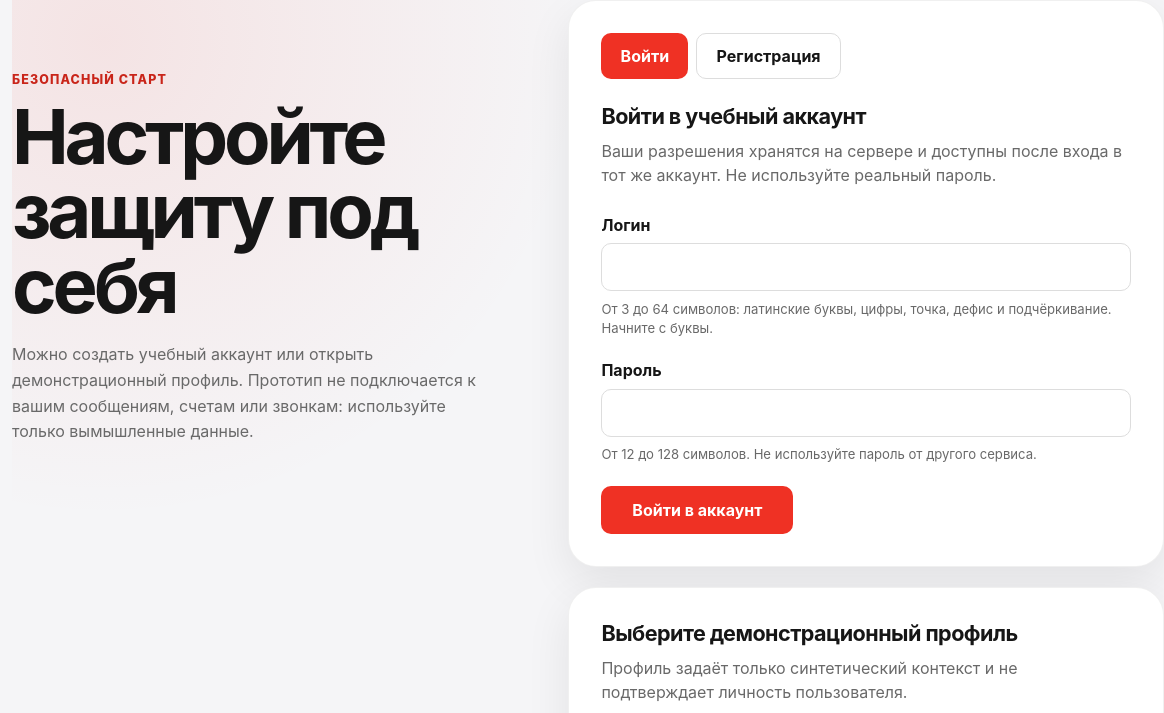
Test case: onboarding › keeps registration fields after a server error and sends only credentials
Click the button "Регистрация". click: {"x": 769, "y": 56}
box: [696,33,841,79]
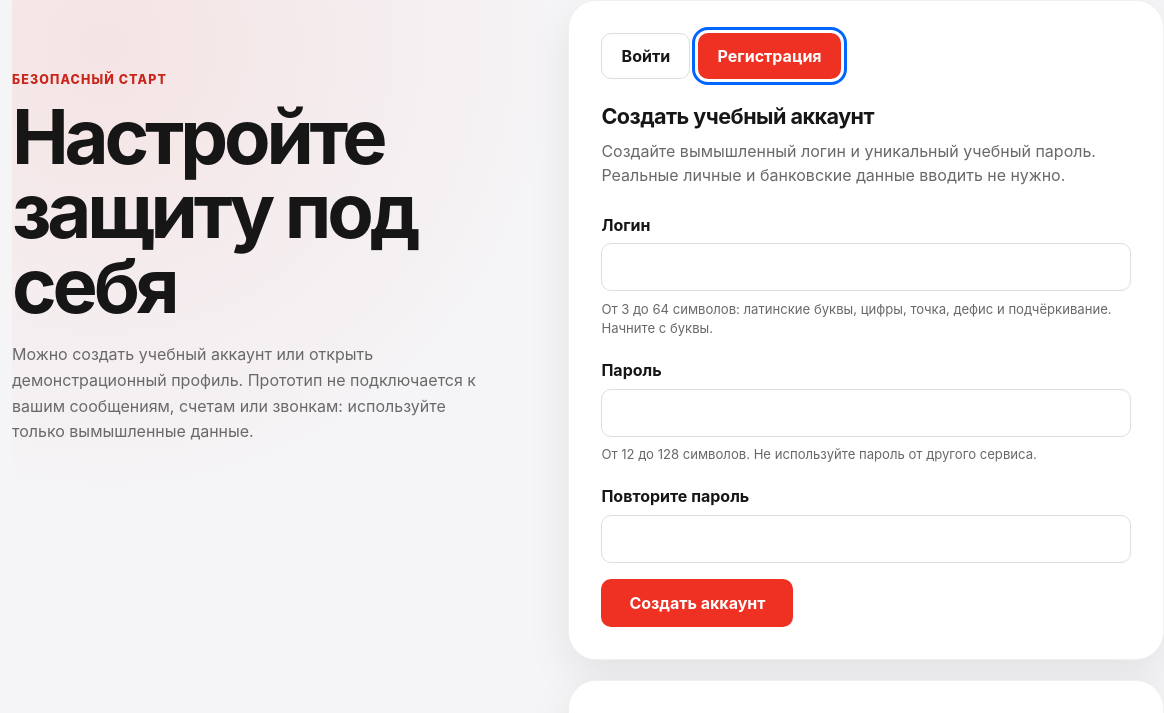
Type "student_one" into the field labelled "Логин". click: {"x": 866, "y": 267}
box: [601,243,1131,291]
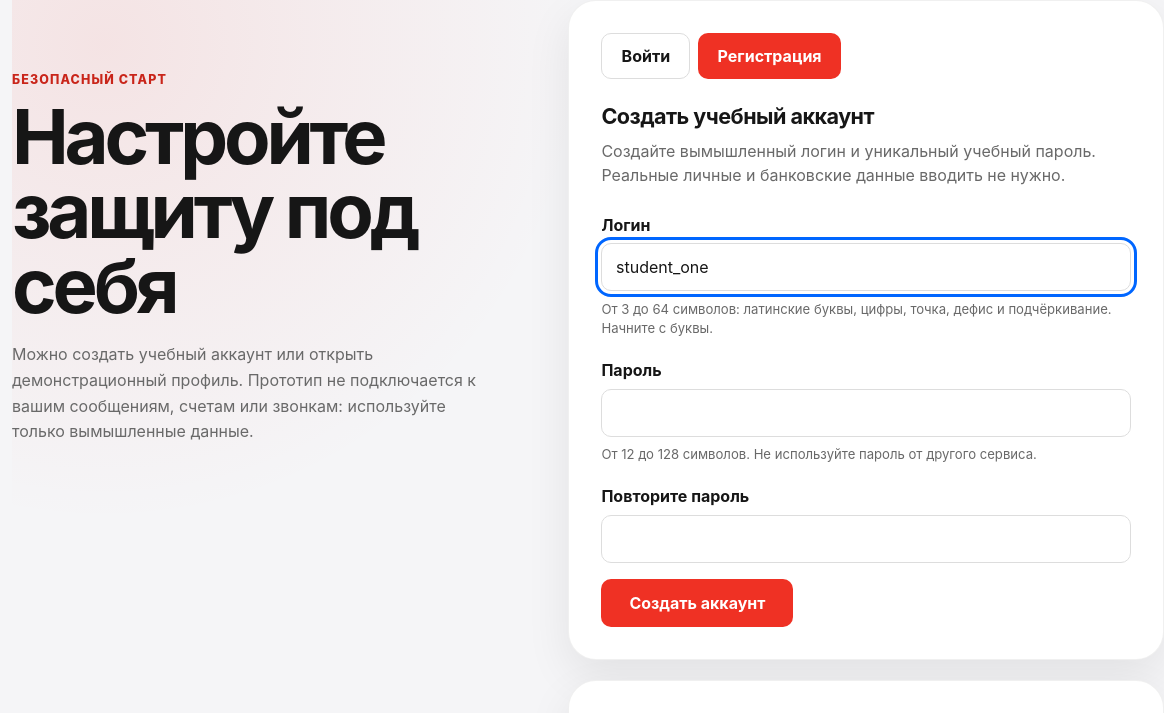
Type "safe-test-pass-123" into the password field labelled "Пароль". click: {"x": 866, "y": 413}
box: [601,389,1131,437]
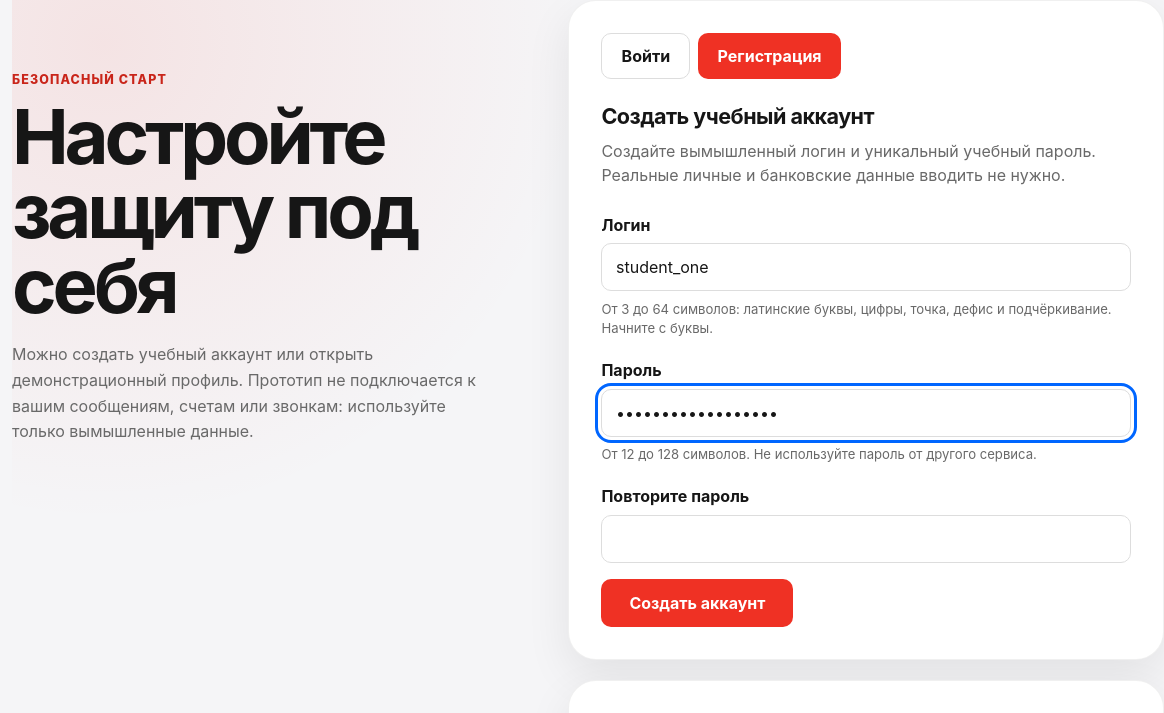
Type "safe-test-pass-123" into the password field labelled "Повторите пароль". click: {"x": 866, "y": 539}
box: [601,515,1131,563]
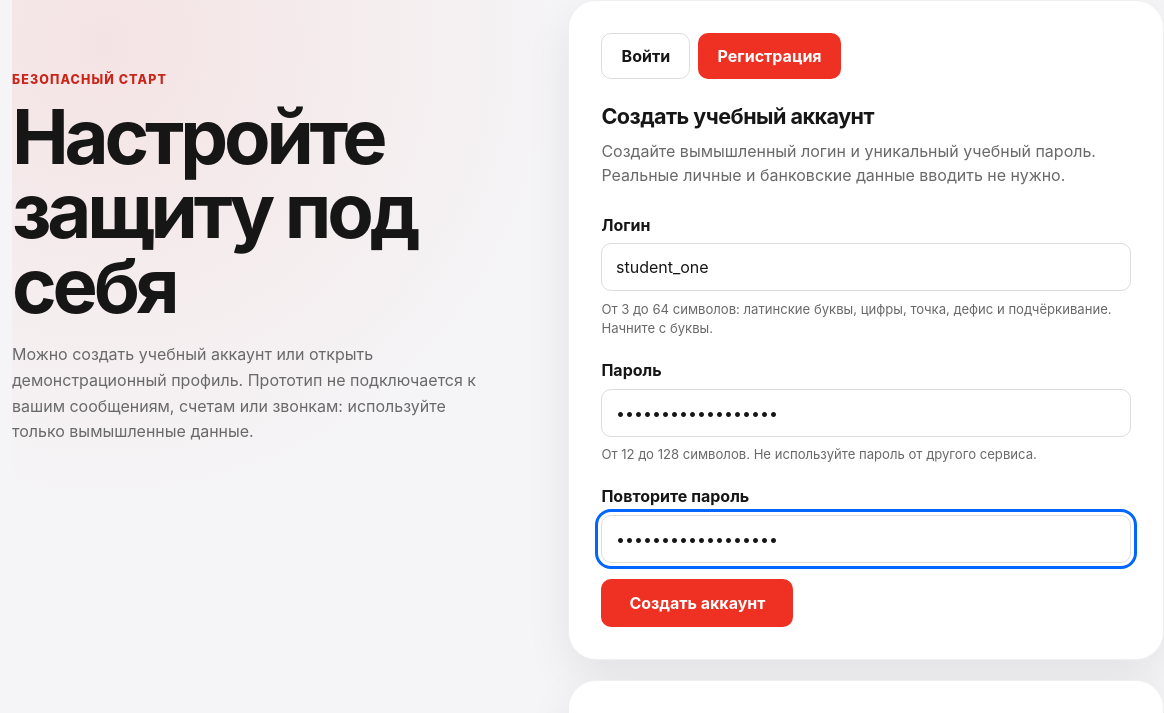
Click the button "Создать аккаунт". click: {"x": 697, "y": 603}
box: [601,579,793,627]
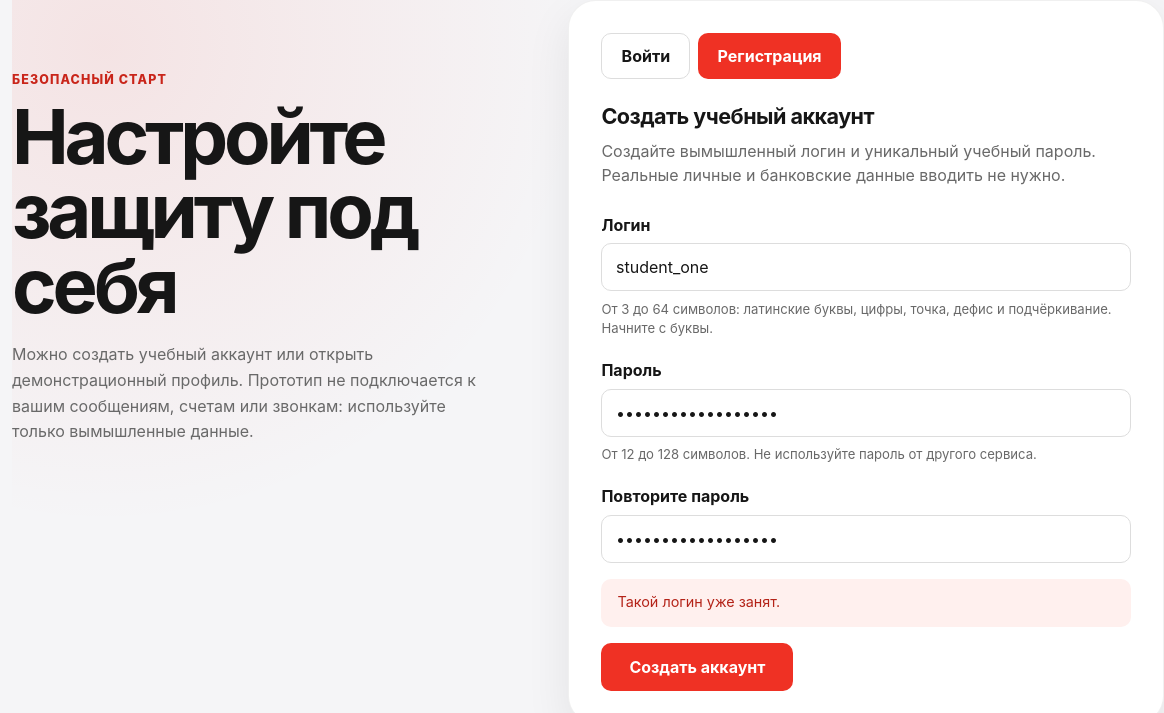
Expected: the message reads "Такой логин уже занят.", [617,593,780,610]
